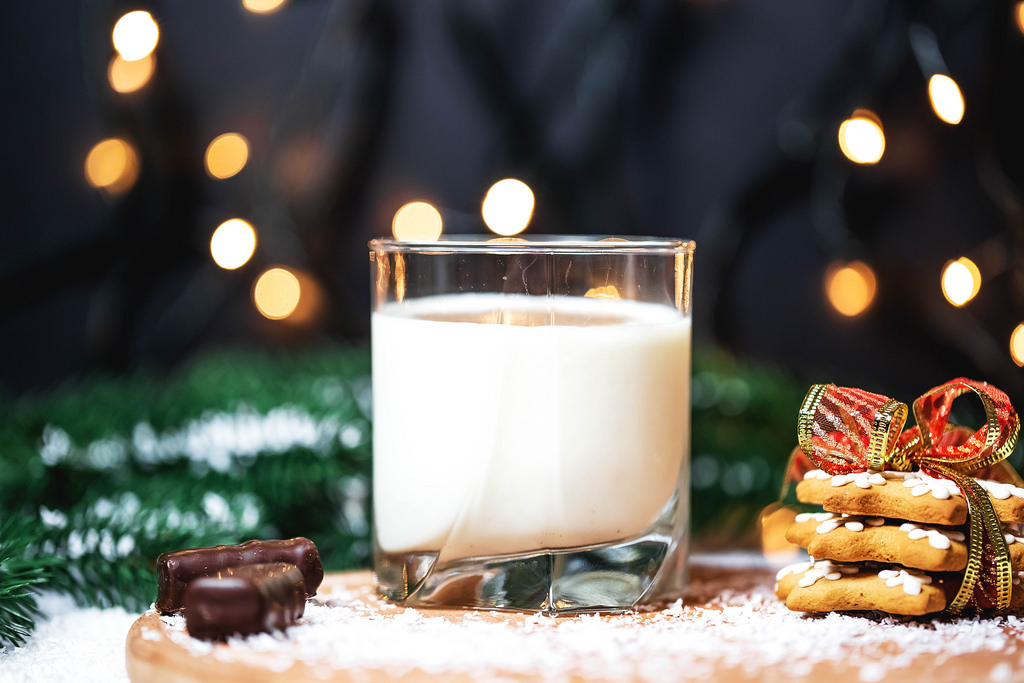glass of milk: (362, 228, 706, 612)
